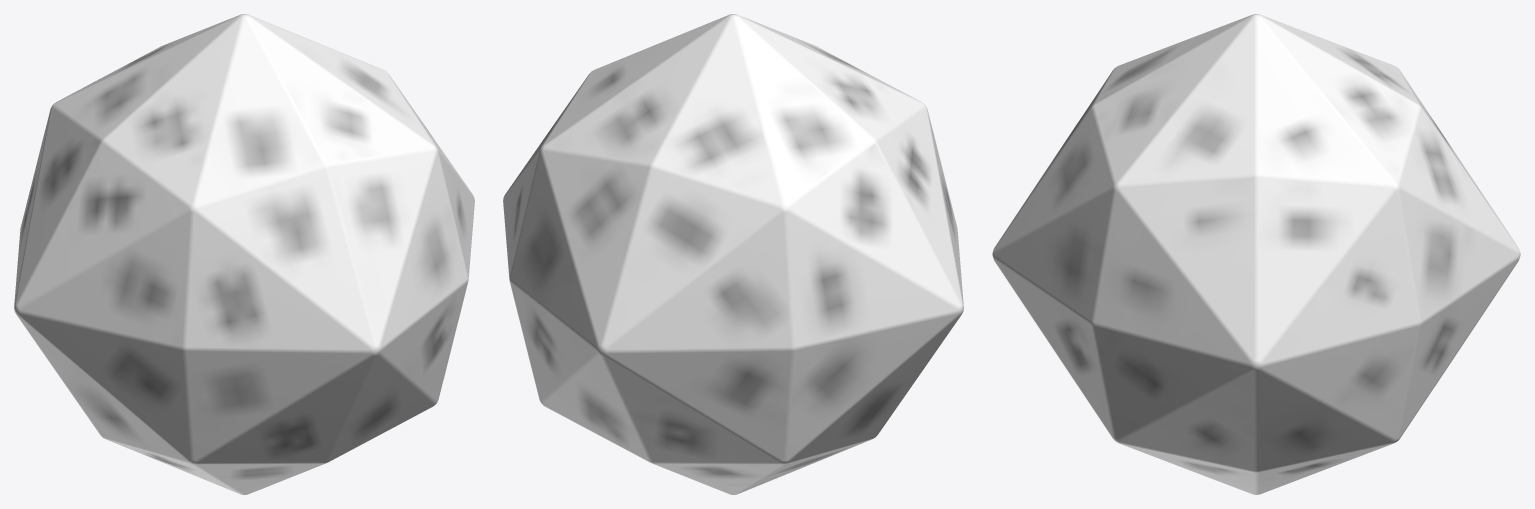
3 renders of one model, left to right at view 1: azimuth 30°, elevation 25°; view 2: azimuth 150°, elevation 25°; view 3: azimuth 270°, elevation 25°, orthographic.
Visible parts, largest first — view 1: D48; view 2: D48; view 3: D48.
Part boxes in pixels (<box>): D48: <box>14,14,474,494</box>; D48: <box>503,14,963,494</box>; D48: <box>992,14,1520,494</box>.
Bounding box in the file's own units: 0.0315 × 0.0315 × 0.0315.
Materials: 1 (1 with a texture image).
